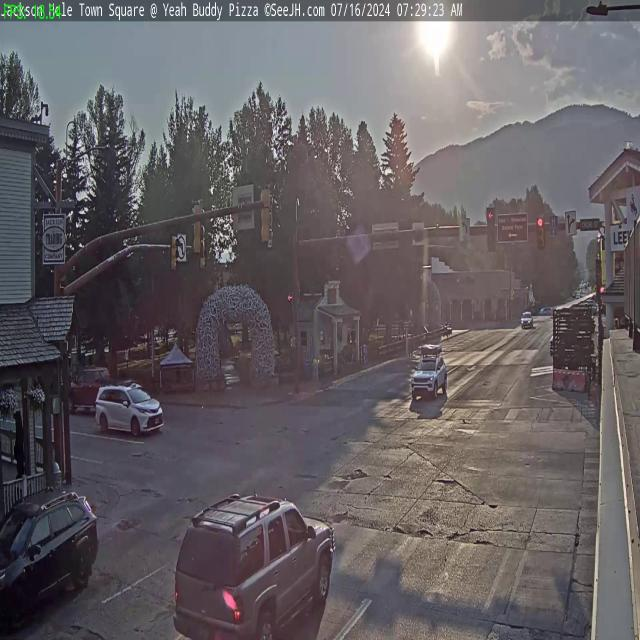suv: (171, 486, 337, 639), (0, 487, 103, 633), (94, 381, 165, 439), (411, 349, 448, 401)
traffic light: (260, 184, 272, 245), (190, 200, 203, 256), (486, 207, 496, 252), (170, 235, 180, 275), (536, 216, 545, 249)
